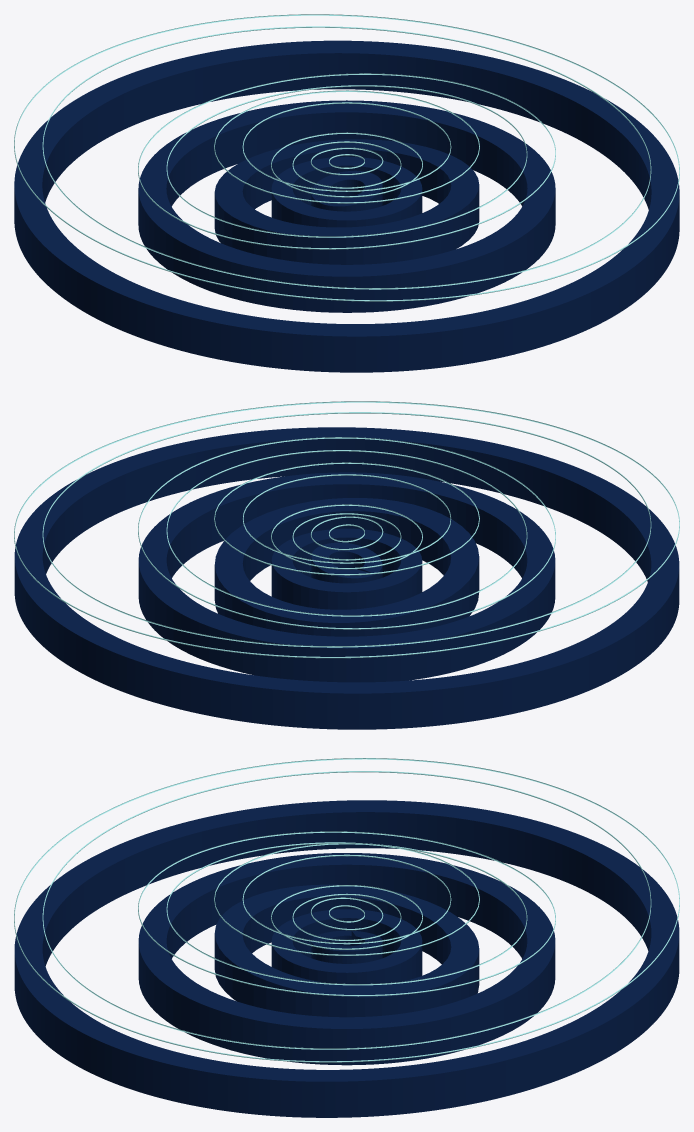
File: Ripple02.gltf
3 views of the same model, one above another, from view 1: azimuth 30°, elevation 25°; view 2: azimuth 150°, elevation 25°; view 3: azimuth 270°, elevation 25° (orthographic).
Parts seen in each view (by area): view 1: Curve.004, Curve.003, Curve.002, Curve, Curve.005, Curve.006, Curve.001, Curve.007, Curve.009; view 2: Curve.004, Curve.003, Curve.002, Curve, Curve.005, Curve.006, Curve.001, Curve.007, Curve.009; view 3: Curve.004, Curve.003, Curve.002, Curve, Curve.005, Curve.006, Curve.007, Curve.001, Curve.009.
Boxes of the visible parts, bbox=[...] form: Curve.004: bbox=[14, 40, 679, 372]; Curve.003: bbox=[138, 100, 555, 312]; Curve.002: bbox=[214, 139, 479, 264]; Curve: bbox=[271, 156, 422, 227]; Curve.005: bbox=[14, 14, 679, 301]; Curve.006: bbox=[138, 73, 555, 249]; Curve.001: bbox=[311, 170, 382, 211]; Curve.007: bbox=[214, 90, 479, 203]; Curve.009: bbox=[271, 132, 422, 197]; Curve.004: bbox=[14, 427, 679, 729]; Curve.003: bbox=[138, 472, 555, 682]; Curve.002: bbox=[214, 498, 479, 636]; Curve: bbox=[271, 528, 422, 609]; Curve.005: bbox=[14, 401, 679, 658]; Curve.006: bbox=[138, 437, 555, 629]; Curve.001: bbox=[311, 542, 382, 583]; Curve.007: bbox=[214, 462, 479, 575]; Curve.009: bbox=[271, 504, 422, 569]; Curve.004: bbox=[14, 800, 679, 1117]; Curve.003: bbox=[138, 853, 555, 1065]; Curve.002: bbox=[214, 884, 479, 1017]; Curve: bbox=[271, 909, 422, 985]; Curve.005: bbox=[14, 758, 679, 1062]; Curve.006: bbox=[138, 831, 555, 996]; Curve.007: bbox=[214, 843, 479, 955]; Curve.001: bbox=[311, 930, 382, 963]; Curve.009: bbox=[271, 885, 422, 949].
Size of the model in its own units: 6.96 by 1.03 by 6.96.
